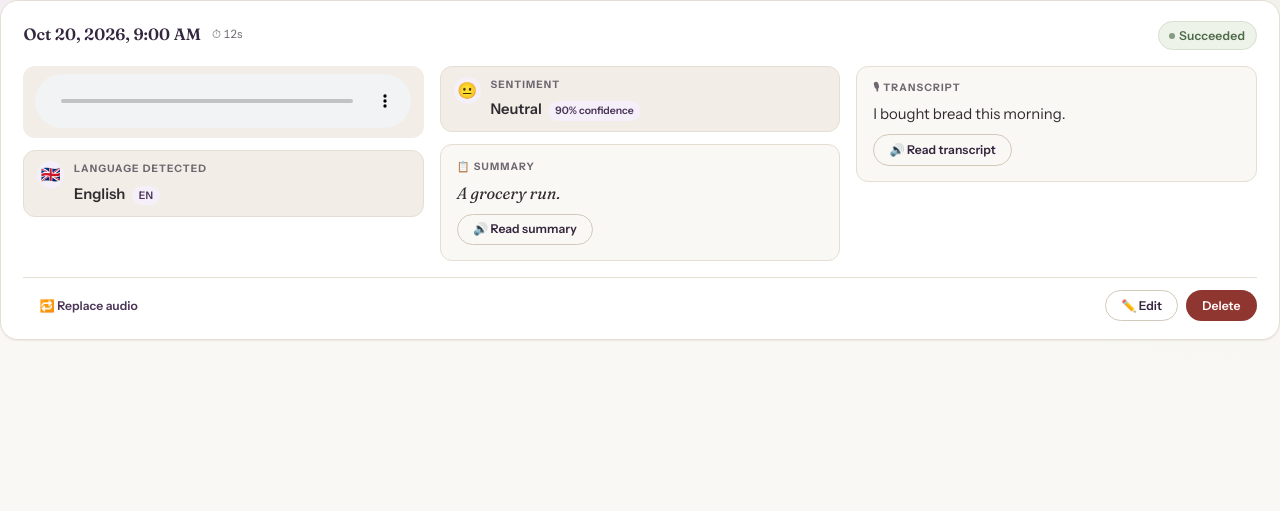
Test case: AudioEntryCard editing › opens the microphone recorder from inside edit mode
Click the button with aria-label "edit the transcript".
click(1142, 306)  # box [1105, 290, 1178, 322]
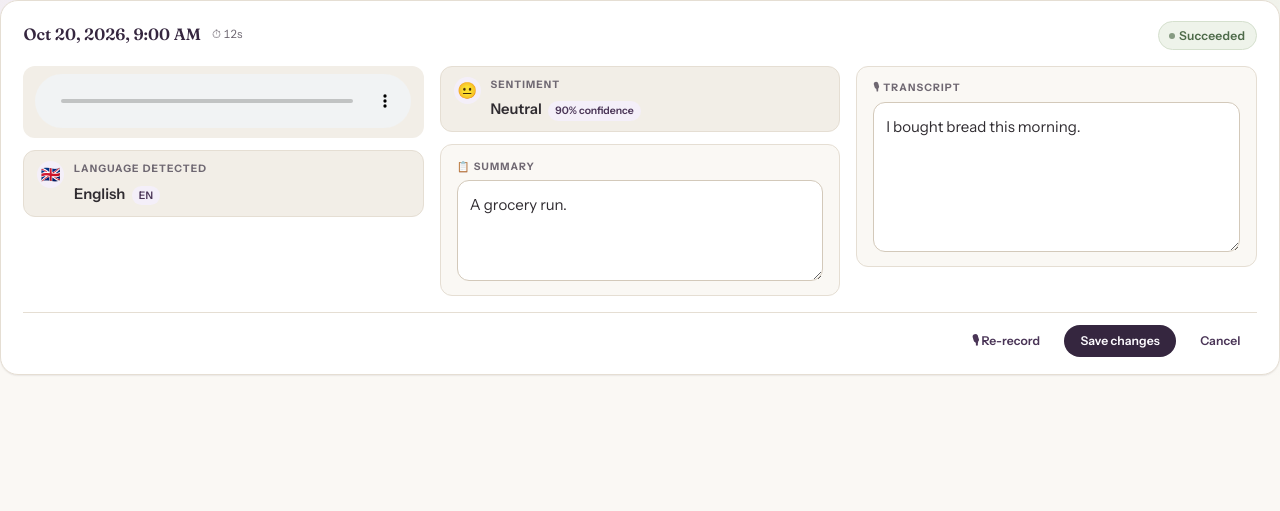
Check: the button "start recording" is not shown
Click the button with aria-label "re-record this memo with the microphone".
click(1006, 341)  # box [956, 325, 1056, 357]
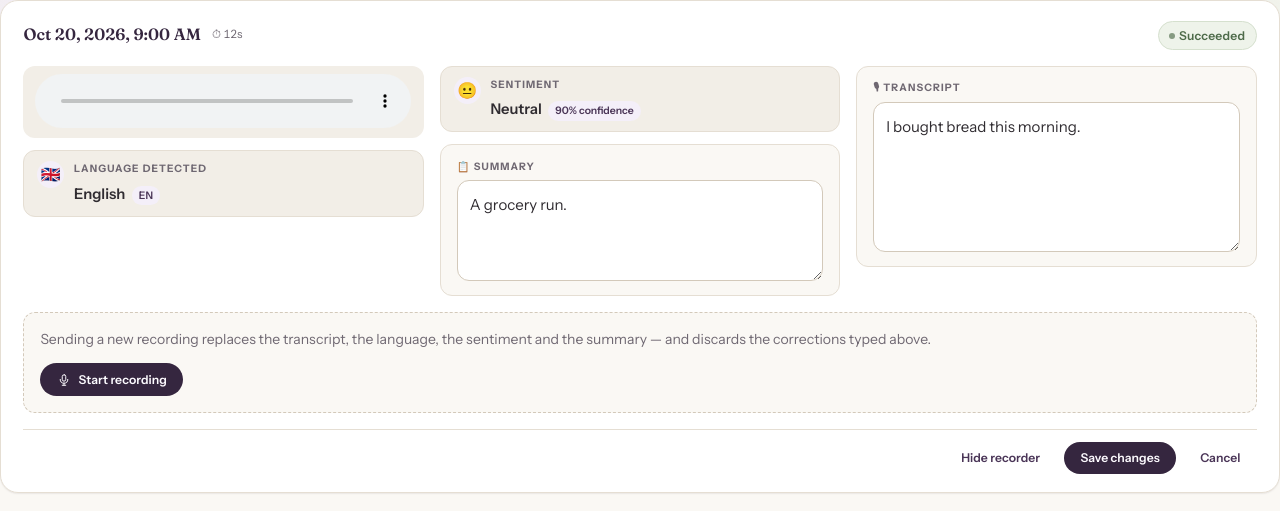
Check: the text "replaces the transcript, the language" is shown, box [40, 330, 931, 348]
Check: the button "Start recording" is shown, box [40, 363, 183, 396]
